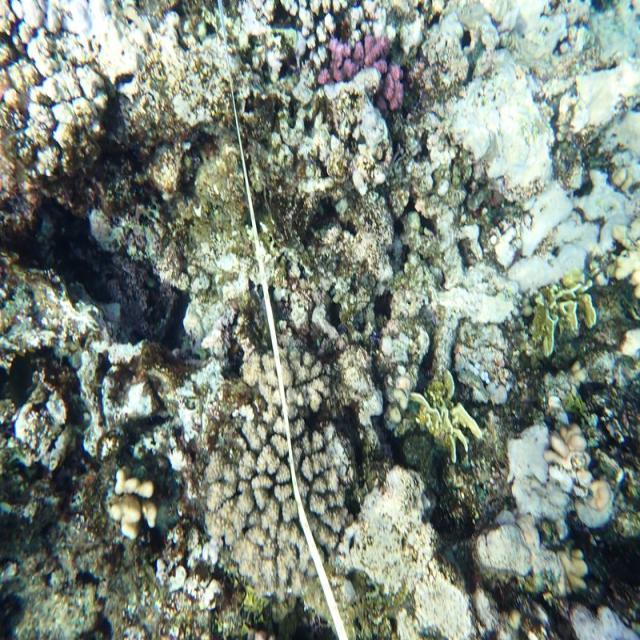Bleached Coral: (410, 0, 639, 295), (0, 0, 213, 163)
Healthy Coral: (203, 341, 355, 596), (328, 25, 403, 125)
